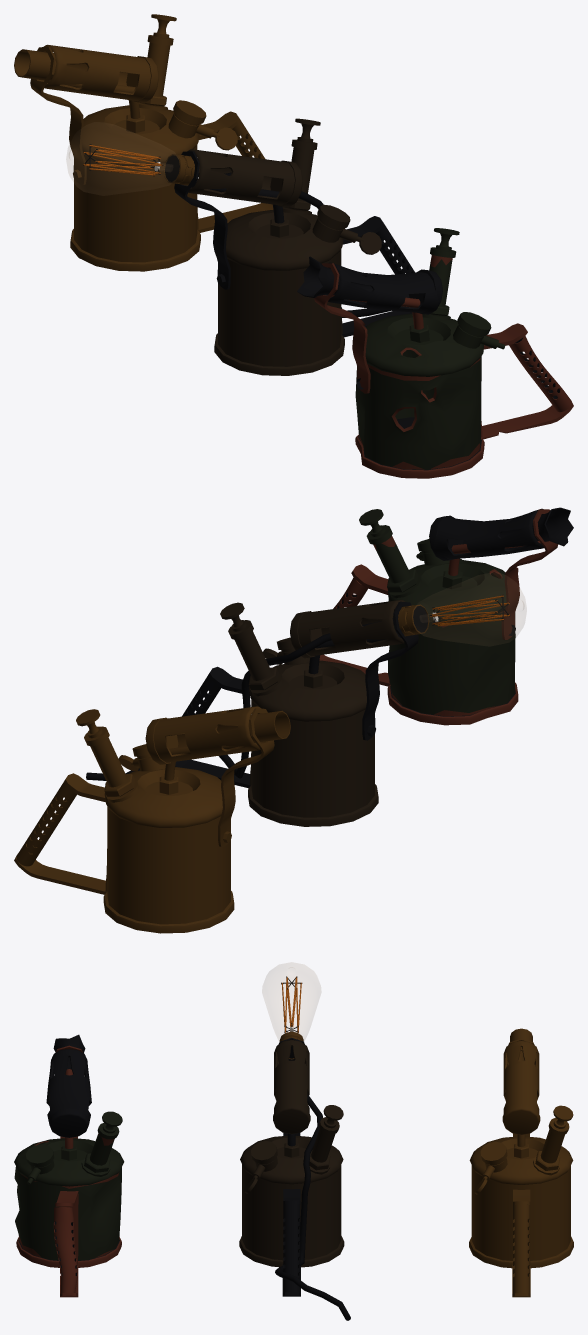
Rendered from 3 damaged drafts.fbx.
3 renders of one model, top to bottom at view 1: azimuth 30°, elevation 25°; view 2: azimuth 150°, elevation 25°; view 3: azimuth 270°, elevation 25°, orthographic. The views are drawn at different scales.
Visible parts, largest first — view 1: Cylinder161, Cylinder184, Cylinder112; view 2: Cylinder161, Cylinder112, Cylinder184; view 3: Cylinder161, Cylinder184, Cylinder112.
Part boxes in pixels (x1,y1,x2,y2): Cylinder161: (66, 118, 414, 375); Cylinder184: (297, 228, 573, 478); Cylinder112: (14, 14, 273, 271); Cylinder161: (86, 573, 526, 826); Cylinder112: (14, 706, 290, 933); Cylinder184: (319, 507, 573, 725); Cylinder161: (239, 963, 350, 1320); Cylinder184: (14, 1034, 124, 1297); Cylinder112: (469, 1028, 573, 1297).
Bounding box in the file's own units: 745 × 475 × 1128.
